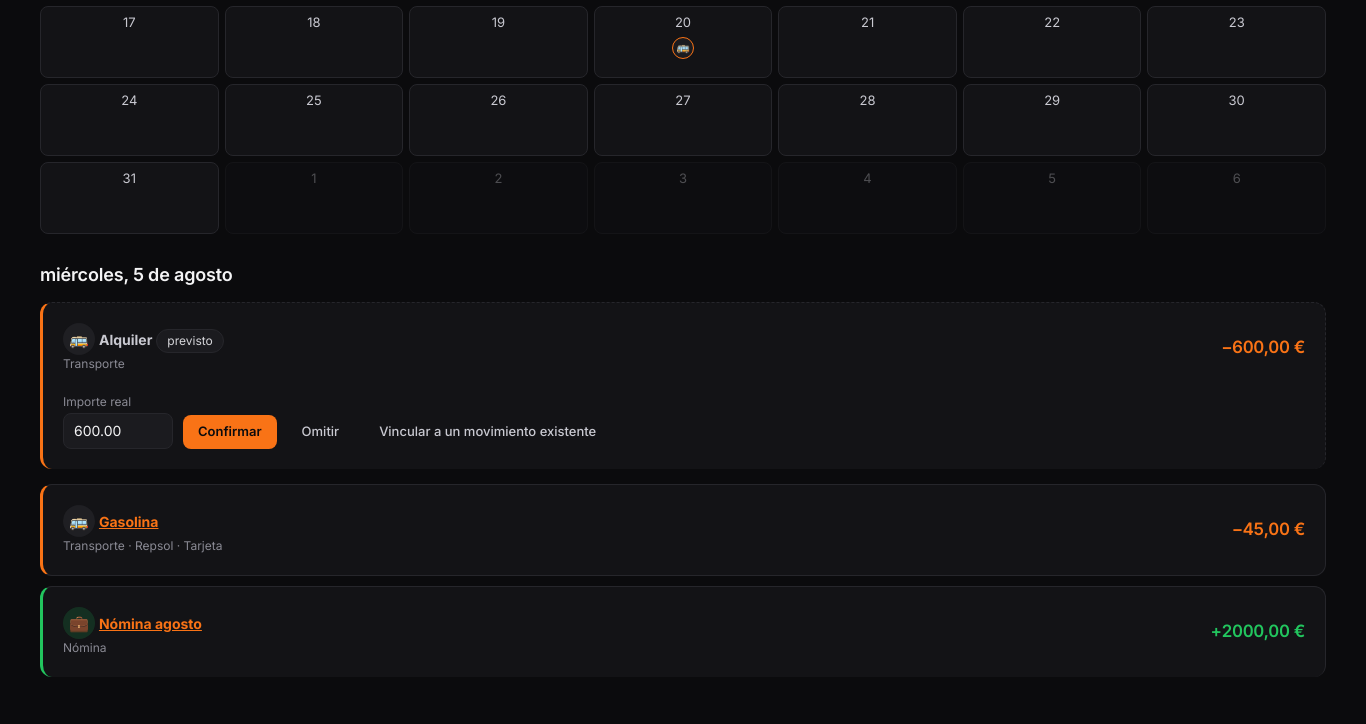
it: CalendarPage › movimientos previstos (spec 047) › un error al confirmar se muestra y no recarga
(page scrolled)
Expected: the text "Alquiler" is shown, x1=99 y1=331 x2=152 y2=348
Click the button "Confirmar" at (230, 432), box x1=183 y1=415 x2=277 y2=449
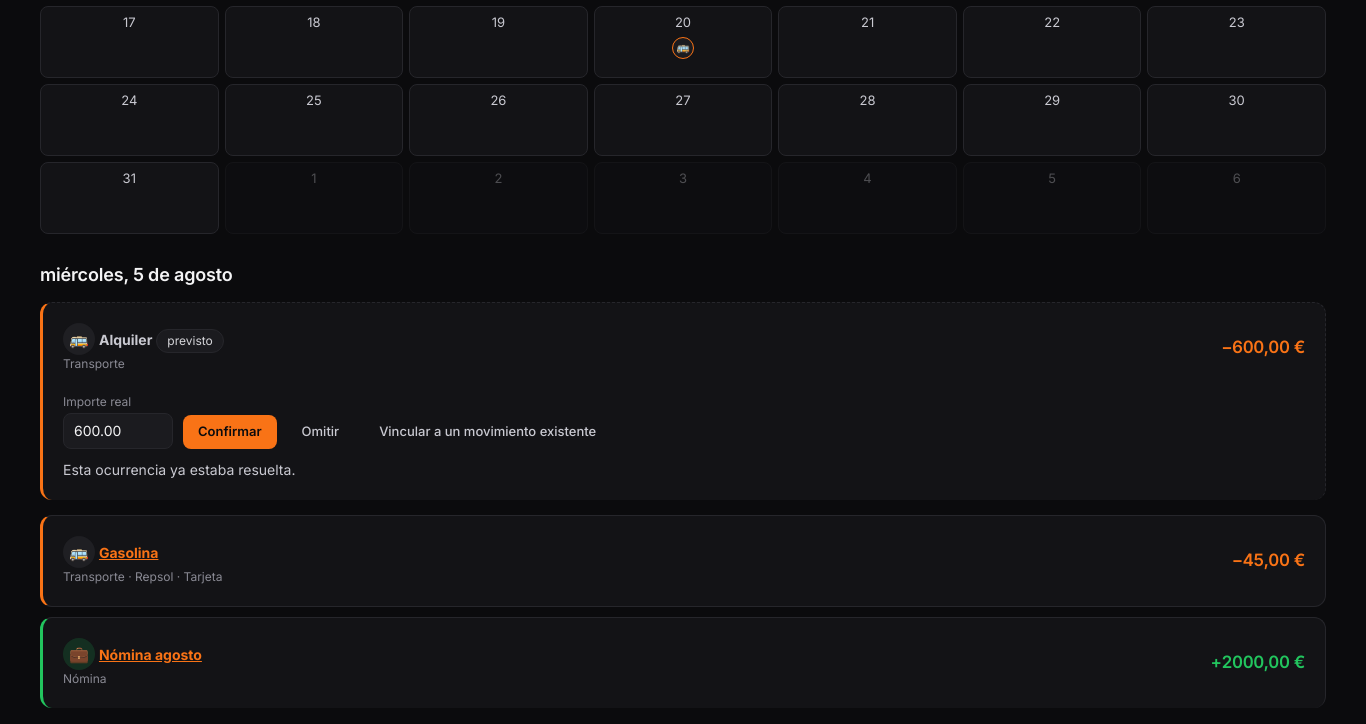
Now the text "Esta ocurrencia ya estaba resuelta." is shown, box x1=63 y1=461 x2=295 y2=478
